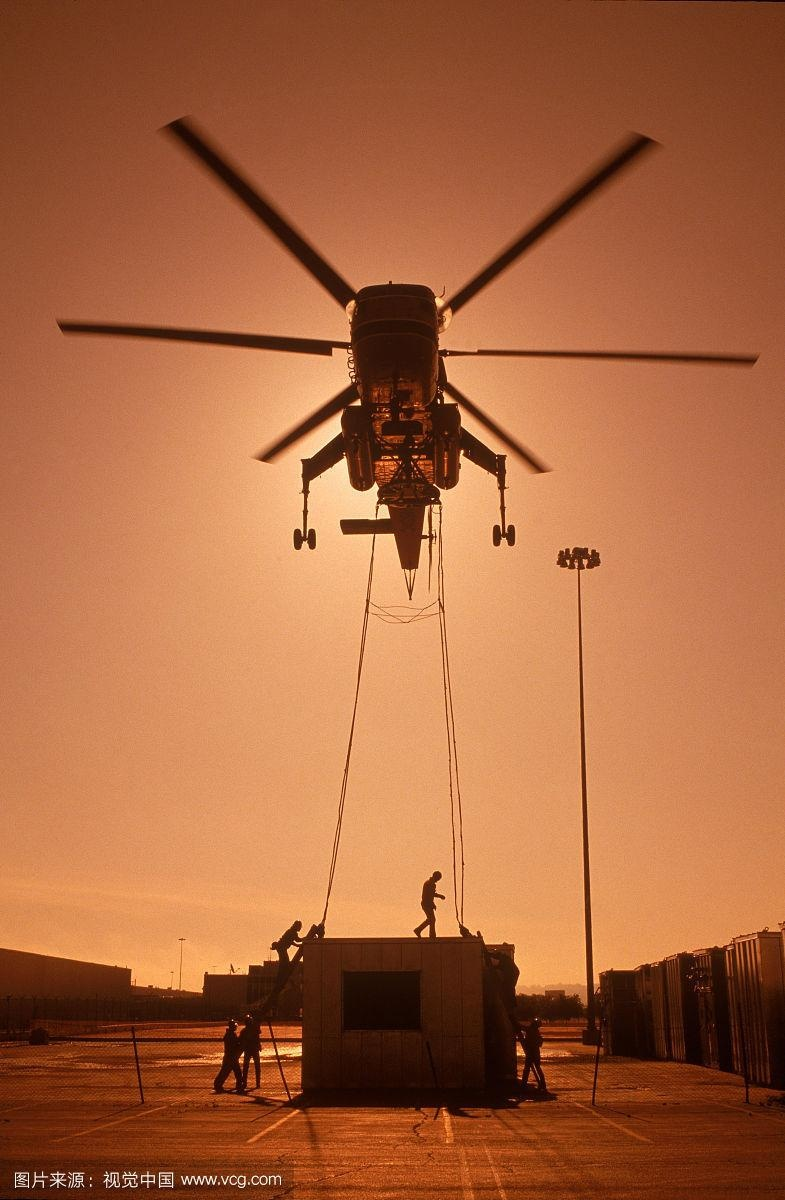airplane: (55, 110, 763, 557)
